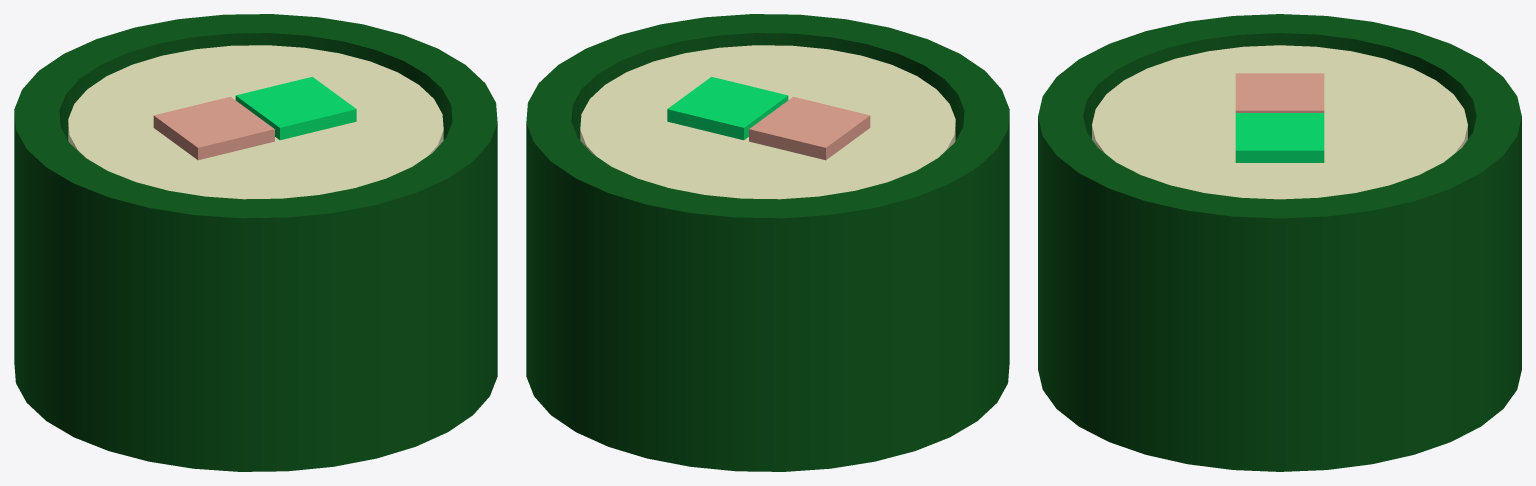
The model's file is makiSalmonAguacate.fbx.
The picture shows the model from 3 angles, left to right: view 1: azimuth 30°, elevation 25°; view 2: azimuth 150°, elevation 25°; view 3: azimuth 270°, elevation 25°; orthographic projection.
Parts seen in each view (by area): view 1: Alga; view 2: Alga; view 3: Alga.
Part boxes in pixels (x1=…): Alga: x1=14, y1=14, x2=497, y2=471; Alga: x1=526, y1=14, x2=1009, y2=471; Alga: x1=1038, y1=14, x2=1521, y2=471.
Size of the model in its own units: 162 by 95.29 by 162.
